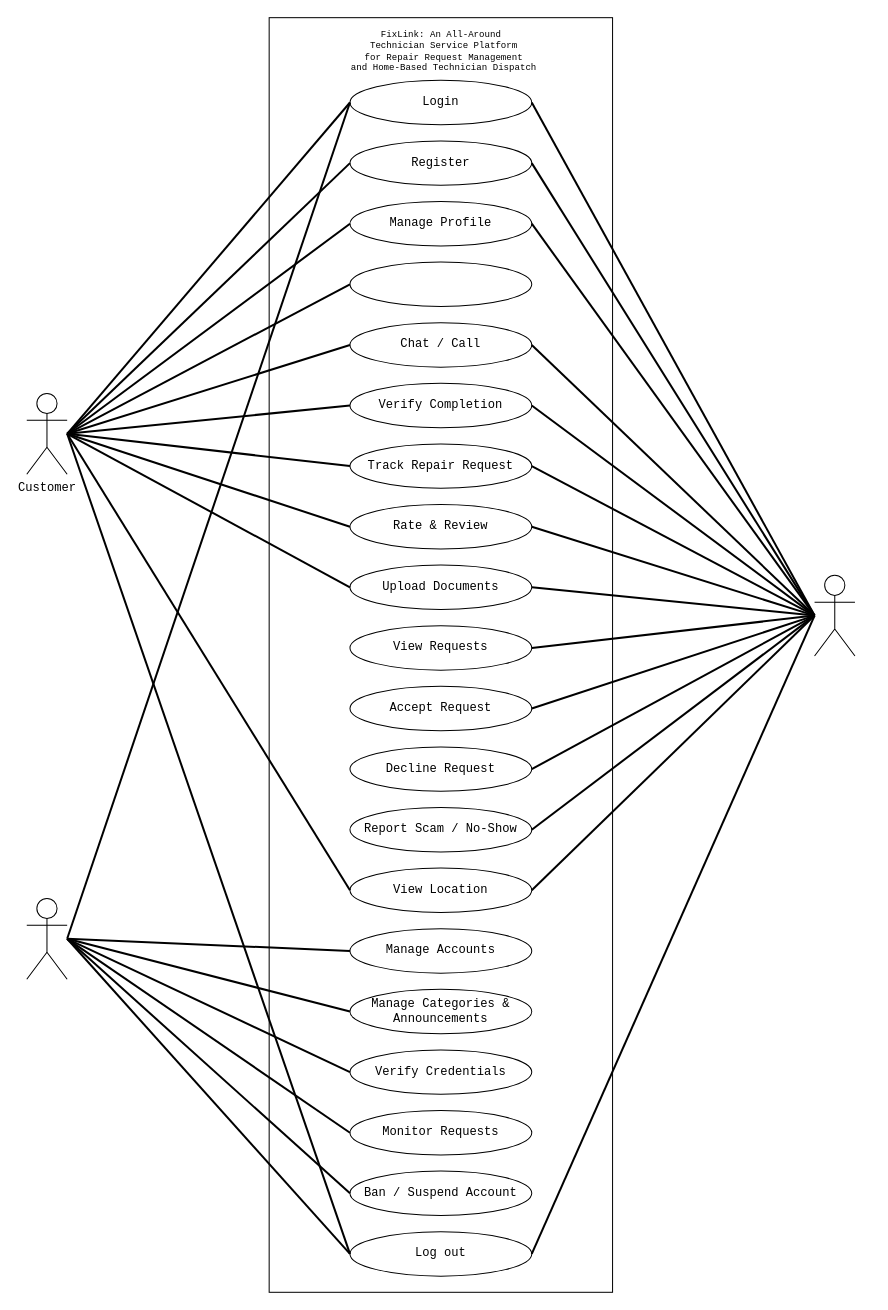
This 888x1310 diagram has some shape labels left out. Here are the shapes that lost their labels. From the top down, the box of each, then its label:
(349, 261, 532, 307): Submit Request
(814, 574, 855, 656): Technician
(26, 897, 67, 979): Admin
